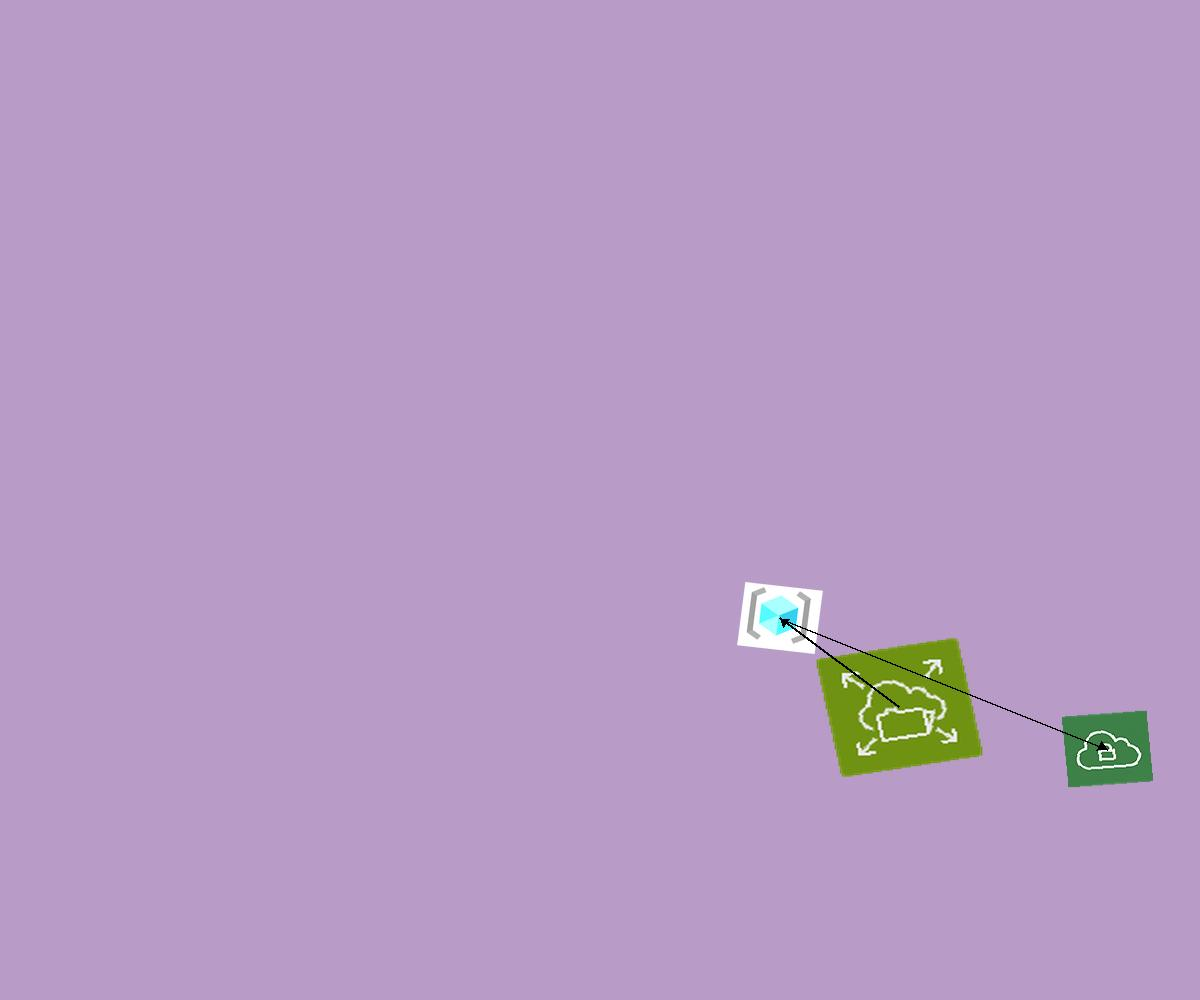AWS-EFS: (815, 637, 984, 778)
AWS-Private_vpc: (1061, 710, 1154, 788)
Azure_resource_group: (737, 582, 823, 654)
